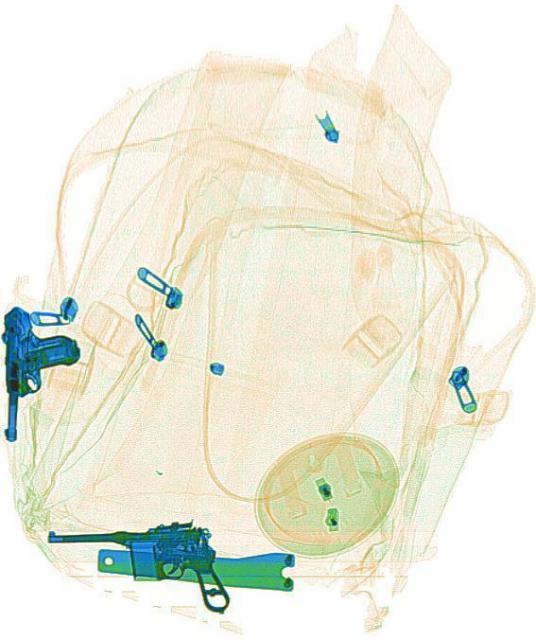Gun: (44, 522, 229, 614), (0, 304, 79, 443)
